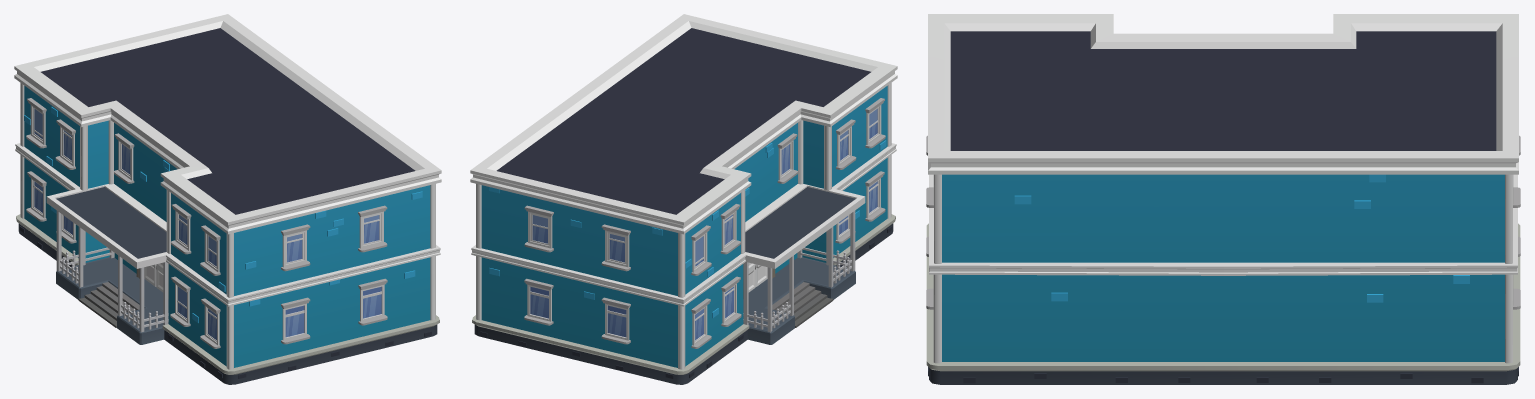
The model's file is Building_5_1_F.fbx.
3 views of the same model, side by side, from view 1: azimuth 30°, elevation 25°; view 2: azimuth 150°, elevation 25°; view 3: azimuth 270°, elevation 25° (orthographic). The views are drawn at different scales.
Visible parts, largest first — view 1: Building_5_1_F; view 2: Building_5_1_F; view 3: Building_5_1_F.
Part boxes in pixels (x1=…): Building_5_1_F: x1=14, y1=14, x2=441, y2=384; Building_5_1_F: x1=470, y1=14, x2=897, y2=384; Building_5_1_F: x1=926, y1=14, x2=1520, y2=384.
Bounding box in the file's own units: 1251 × 804 × 1908.
